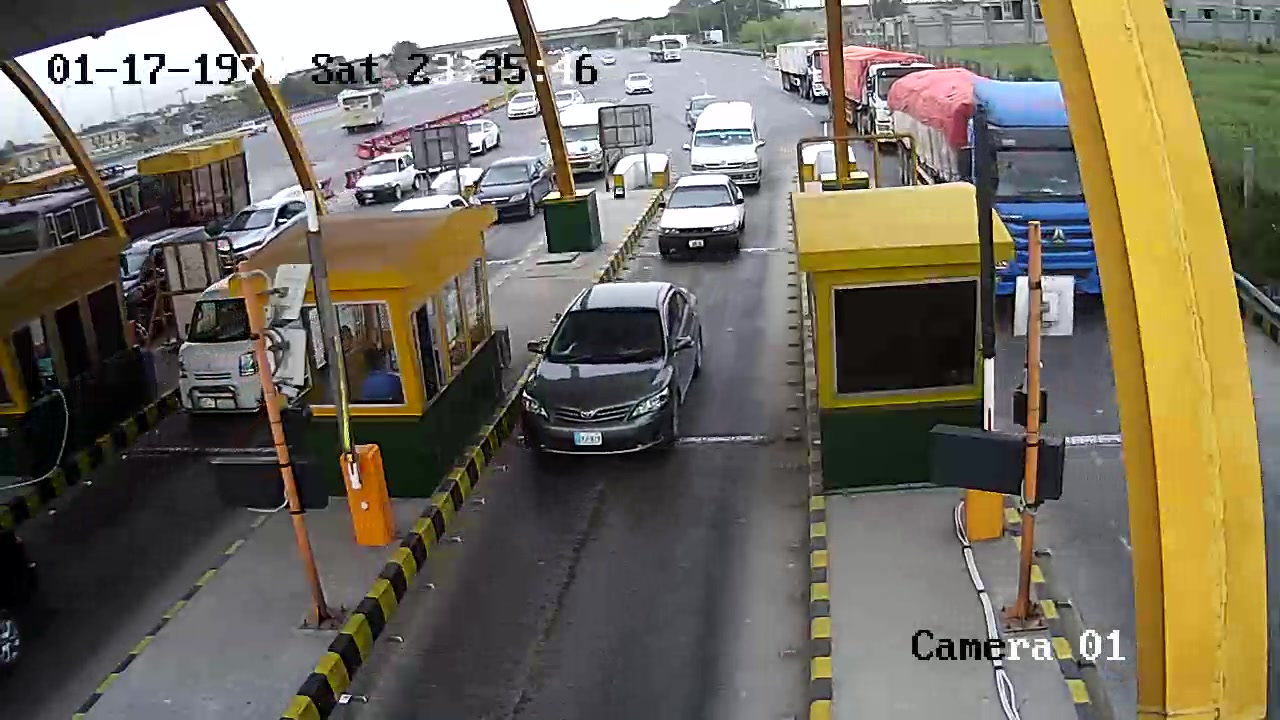F1: (510, 276, 720, 472)
